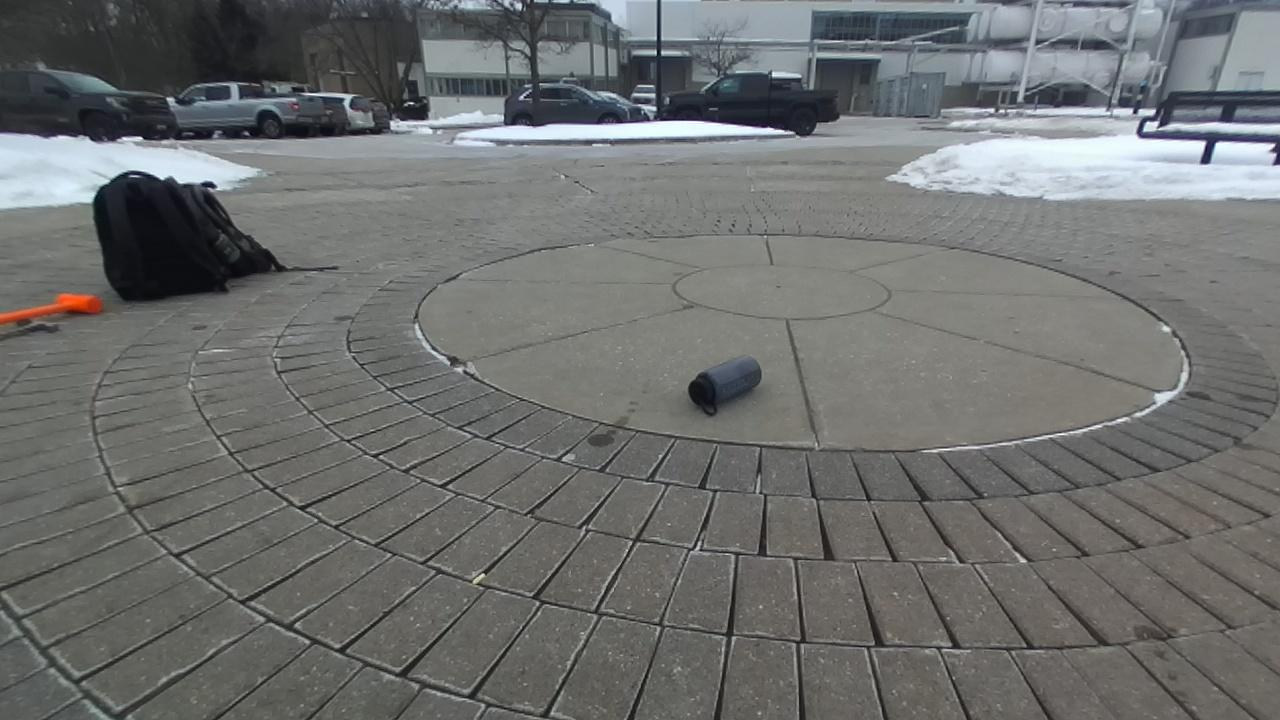bottle: (690, 356, 761, 414)
mallet: (0, 294, 102, 323)
